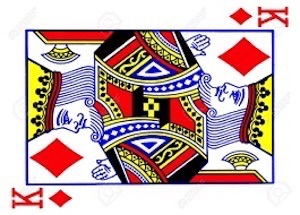KingOfDiamonds: (1, 2, 300, 212)
